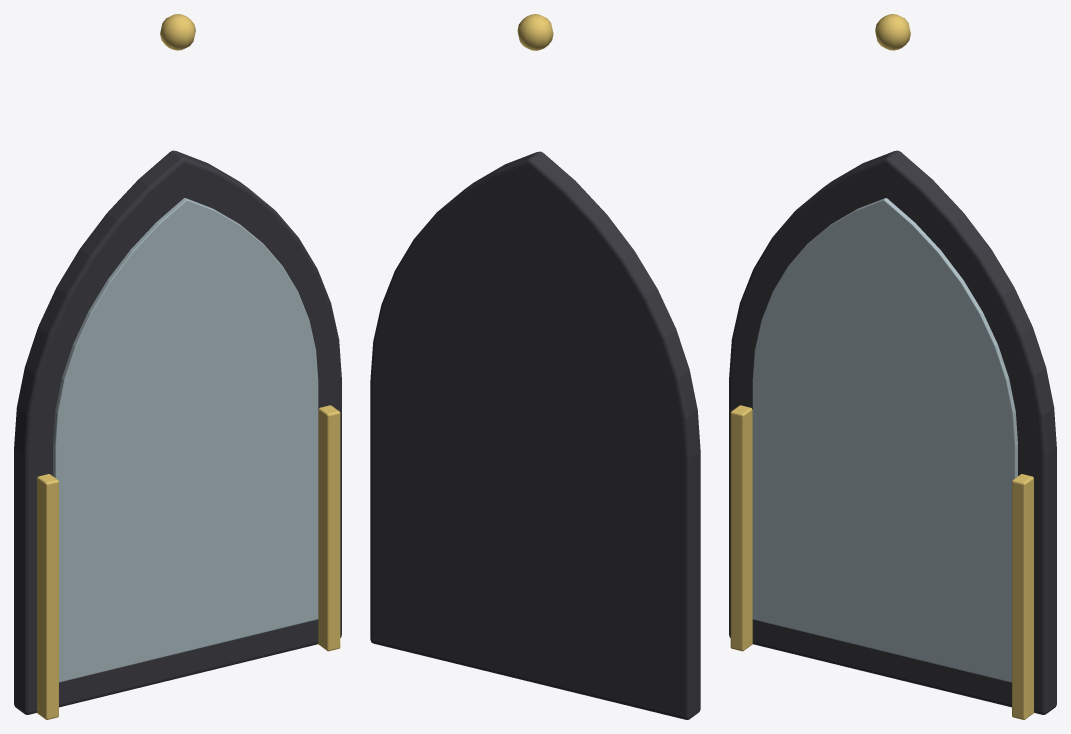
Rendered from arched_mirror.glb.
The picture shows the model from 3 angles, left to right: view 1: azimuth 30°, elevation 25°; view 2: azimuth 150°, elevation 25°; view 3: azimuth 330°, elevation 25°; orthographic projection.
Parts seen in each view (by area): view 1: GD_arched_mirror; view 2: GD_arched_mirror; view 3: GD_arched_mirror.
Part boxes in pixels (x1,y1,x2,y2): GD_arched_mirror: [14, 14, 341, 719]; GD_arched_mirror: [370, 14, 700, 719]; GD_arched_mirror: [729, 14, 1056, 719].
Bounding box in the file's own units: 0.7 × 1.39 × 0.095.
